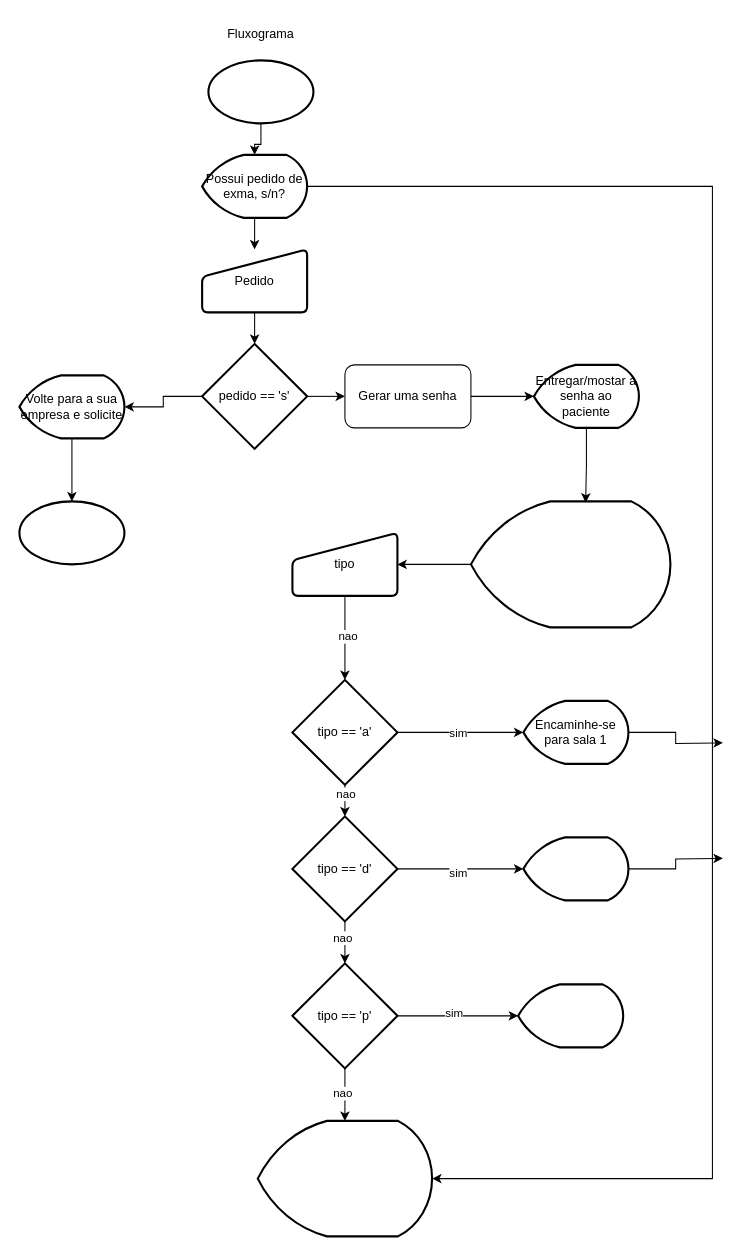
Image size: 750x1255. Some labels were removed from this diagram. The shapes that lost their labels are listed below. From the top down, each one's centre as x and y in pixels, then its label:
(x=260, y=91): inicio
(x=71, y=532): Fim
(x=570, y=564): Qual o tipo de exame? a= admicional d=demissional p=periodo 0=outro
(x=575, y=868): Encaminhe-se para sala 2
(x=570, y=1015): Encaminhe-se para sala 3
(x=344, y=1178): Encaminhar-se para sala 4
